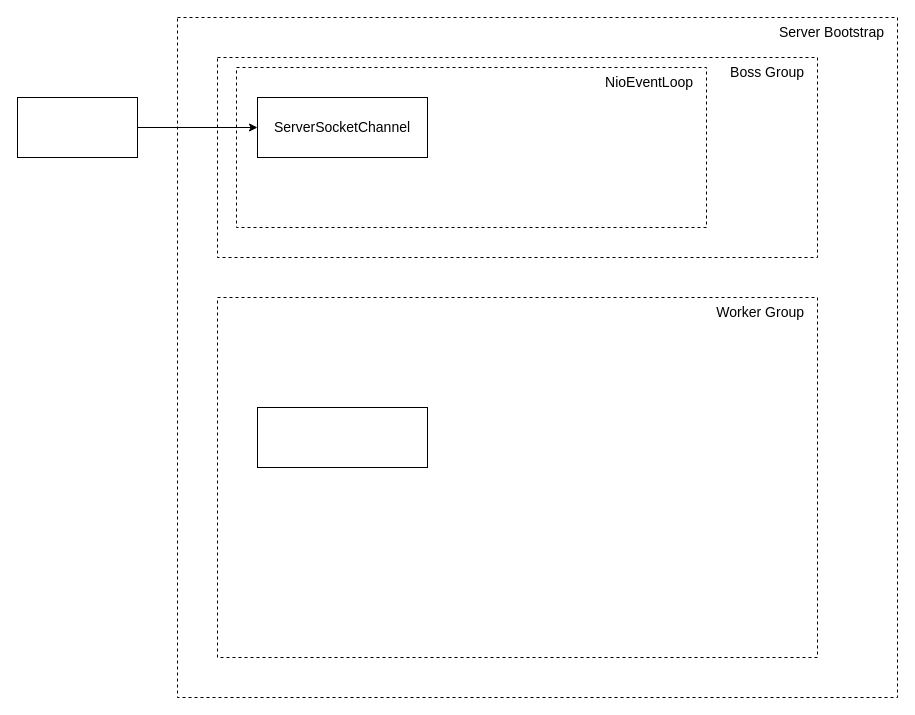
The diagram is 915 pixels wide and 715 high, and some of its shapes have lost their labels. The centre of each missing label's shape, as x and y in pixels:
"Client" belongs at (x=77, y=127).
"SocketChannel" belongs at (x=342, y=437).
